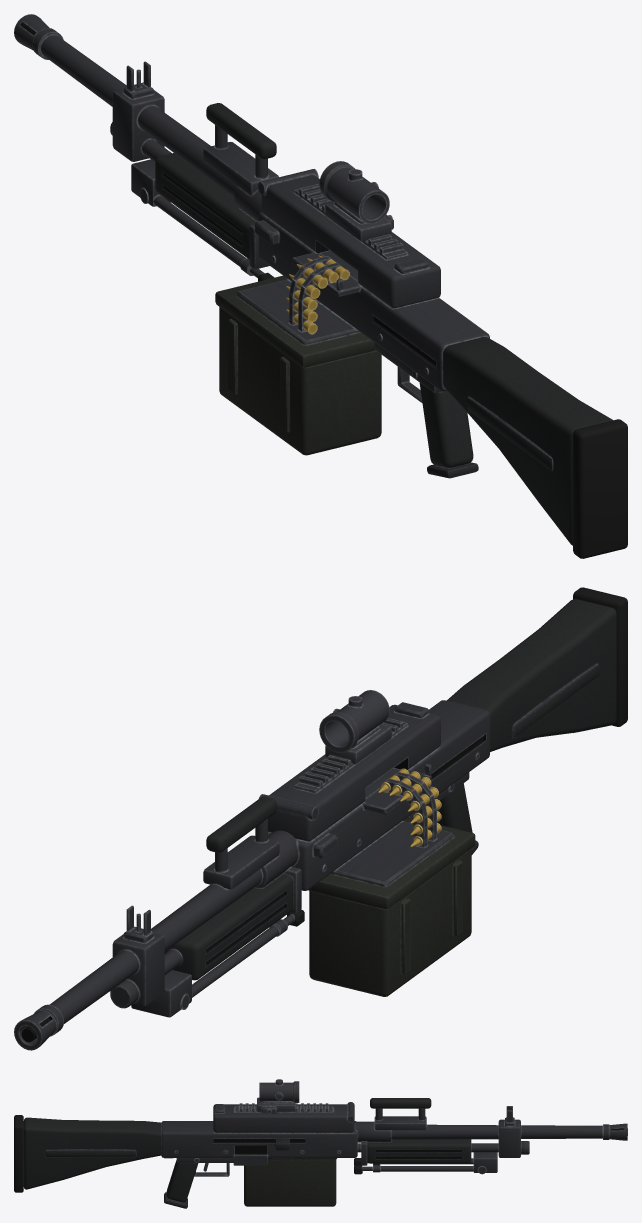
Rendered from lmg.glb.
3 views of the same model, one above another, from view 1: azimuth 30°, elevation 25°; view 2: azimuth 150°, elevation 25°; view 3: azimuth 270°, elevation 25° (orthographic). The views are drawn at different scales.
Parts seen in each view (by area): view 1: Lmg; view 2: Lmg; view 3: Lmg.
Boxes of the visible parts, box(x1,y1,x2,y2) form: Lmg: box(14, 14, 627, 558); Lmg: box(14, 587, 627, 1050); Lmg: box(14, 1079, 627, 1208).
Bounding box in the file's own units: 0.1385 × 0.2305 × 1.
1 material, 1 textured.
